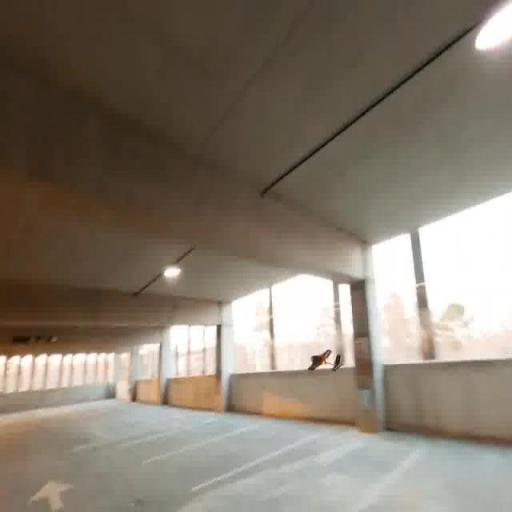uav: (306, 336, 344, 386)
